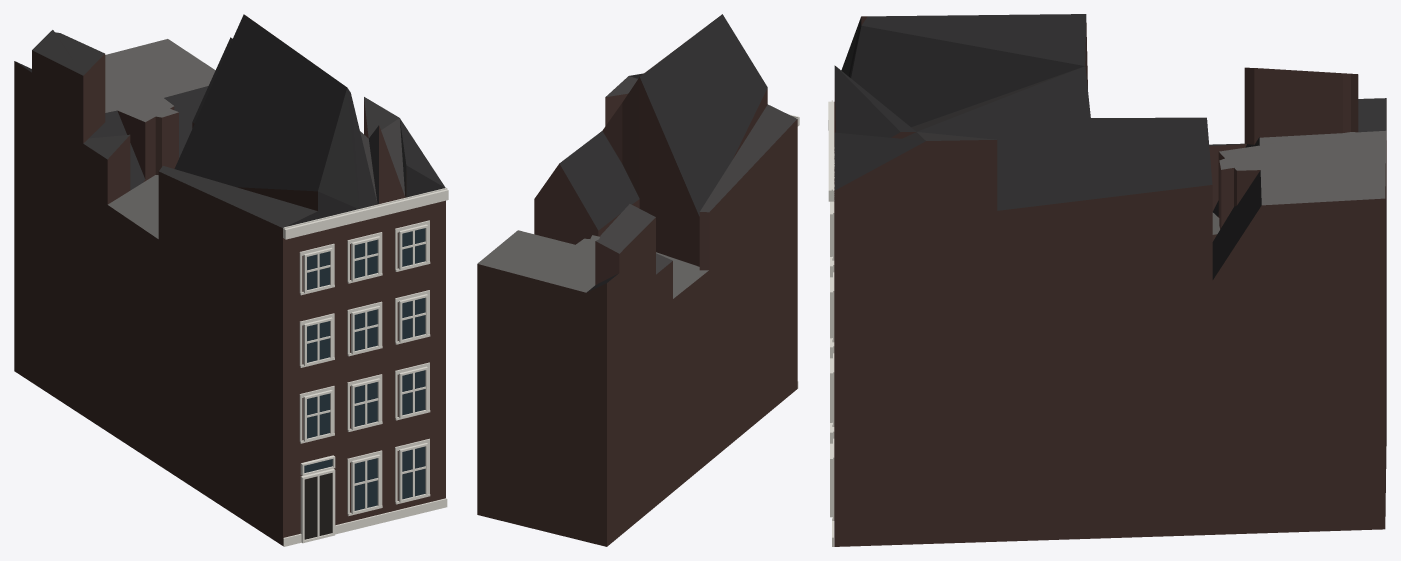
The picture shows the model from 3 angles, left to right: view 1: azimuth 30°, elevation 25°; view 2: azimuth 150°, elevation 25°; view 3: azimuth 270°, elevation 25°; orthographic projection. The views are drawn at different scales.
Visible parts, largest first — view 1: spec-0363100012177857; view 2: spec-0363100012177857; view 3: spec-0363100012177857.
Part boxes in pixels (x1,y1,x2,y2): spec-0363100012177857: [14, 14, 448, 546]; spec-0363100012177857: [477, 14, 799, 546]; spec-0363100012177857: [828, 14, 1386, 546].
Size of the model in its own units: 7 by 15.6 by 16.31.
